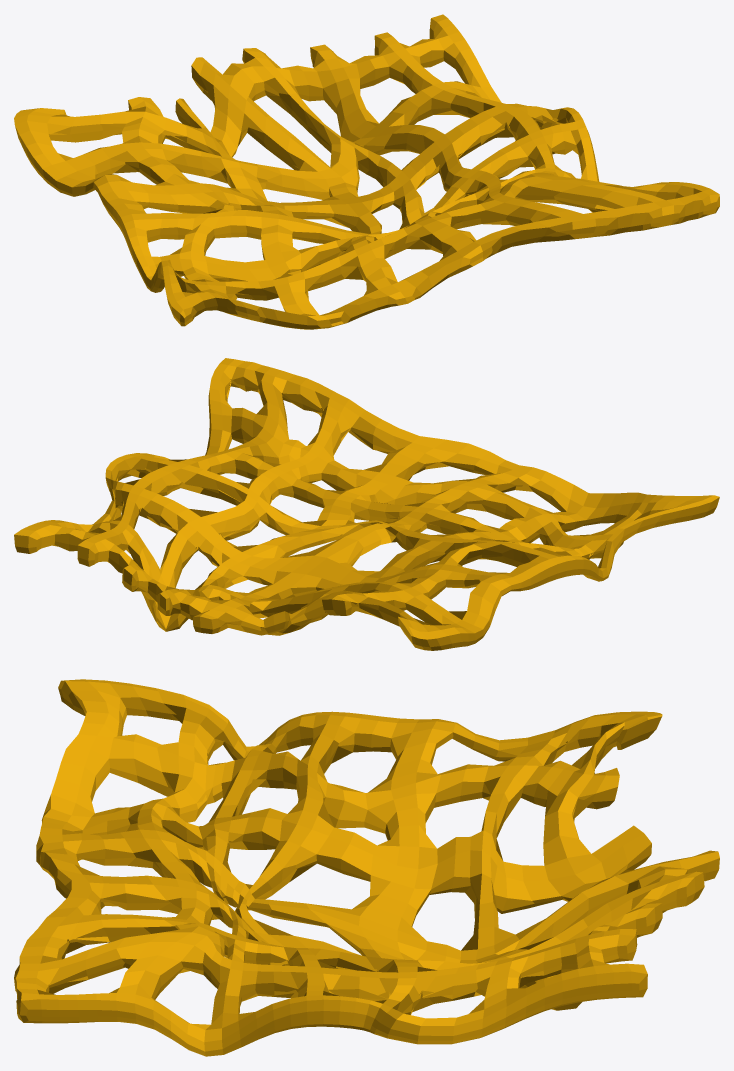
Rendered from FibrinNet.fbx.
3 renders of one model, top to bottom at view 1: azimuth 30°, elevation 25°; view 2: azimuth 150°, elevation 25°; view 3: azimuth 270°, elevation 25°, orthographic. The views are drawn at different scales.
Visible parts, largest first — view 1: Cube.001; view 2: Cube.001; view 3: Cube.001.
Part boxes in pixels (x1=…): Cube.001: x1=14, y1=14, x2=719, y2=329; Cube.001: x1=14, y1=358, x2=719, y2=650; Cube.001: x1=14, y1=679, x2=719, y2=1056.
Size of the model in its own units: 332 by 57.62 by 305.
